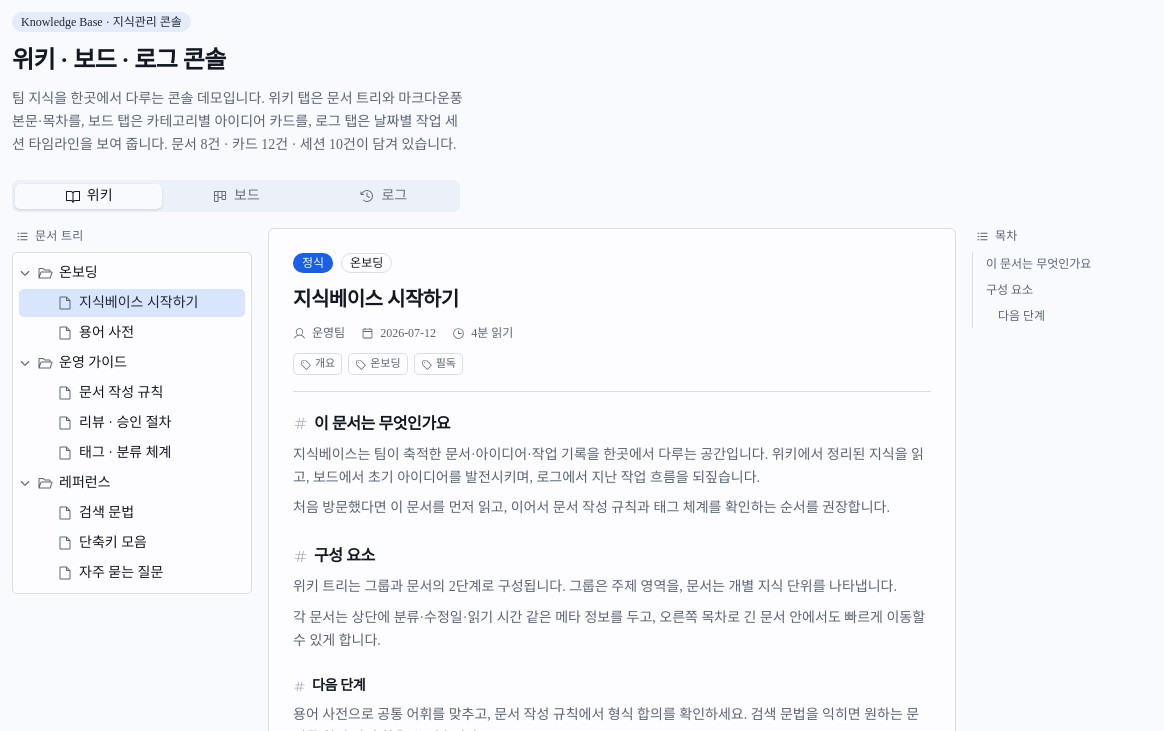
Test: KnowledgeBaseConsolePage › selects another wiki document when its tree item is clicked
Click the text "용어 사전" at (106, 333), box [79,323,134,343]
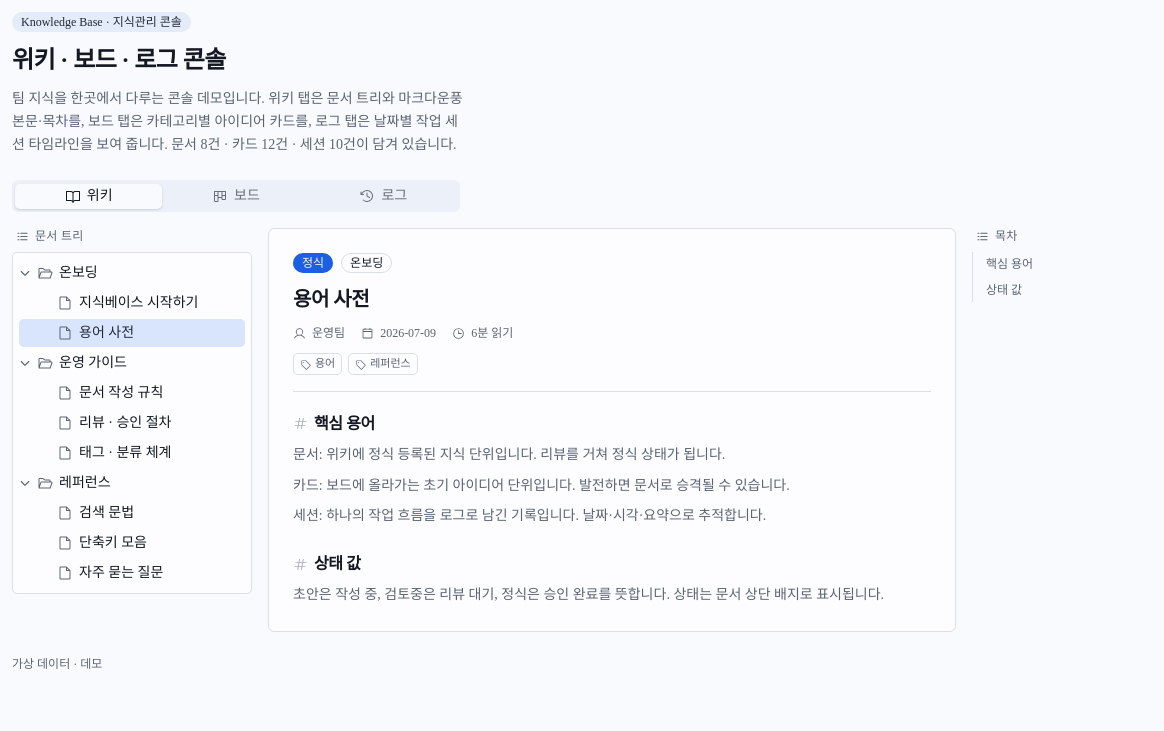
Result: the heading "용어 사전" is shown at [293,288,369,310]
